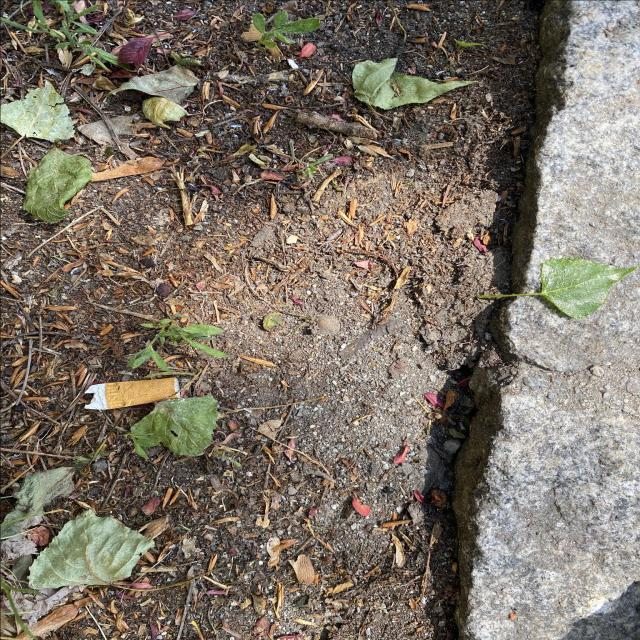other waste: (81, 376, 180, 410)
